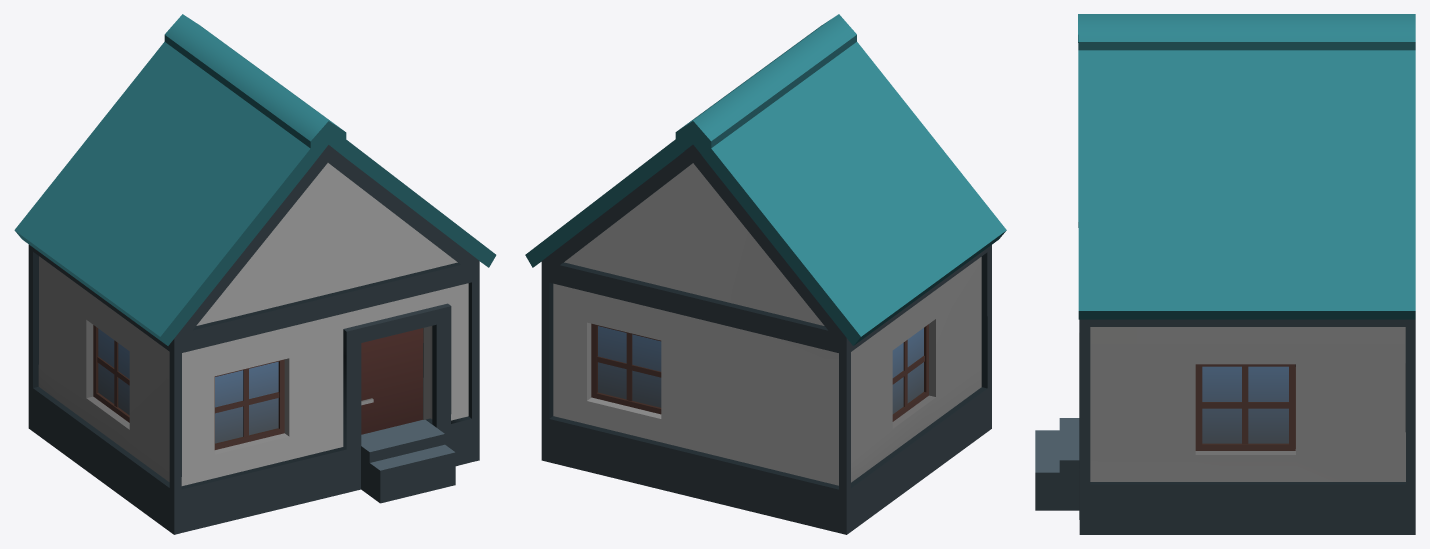
Rendered from Residential_RidiculouslySmallHouse.glb.
The picture shows the model from 3 angles, left to right: view 1: azimuth 30°, elevation 25°; view 2: azimuth 150°, elevation 25°; view 3: azimuth 270°, elevation 25°; orthographic projection. The views are drawn at different scales.
Parts seen in each view (by area): view 1: color.010, base.123, windowRefl.095; view 2: color.010, base.123, windowRefl.095; view 3: color.010, base.123, windowRefl.095.
Boxes of the visible parts, box(x1,y1,x2,y2) form: color.010: box(14, 14, 496, 534); base.123: box(38, 163, 468, 485); windowRefl.095: box(98, 328, 278, 443); color.010: box(525, 14, 1006, 534); base.123: box(553, 163, 981, 485); windowRefl.095: box(598, 326, 923, 414); color.010: box(1035, 14, 1415, 534); base.123: box(1090, 327, 1405, 481); windowRefl.095: box(1202, 366, 1288, 443).
Size of the model in its own units: 7.18 by 7.69 by 6.09.
